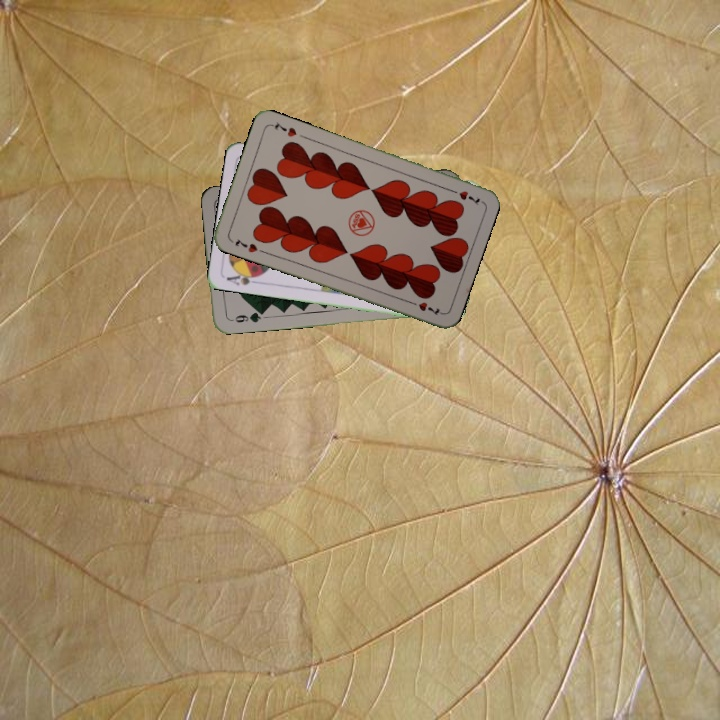G9: (226, 307, 266, 325)
H7: (445, 185, 482, 208), (231, 235, 260, 255)
SA: (222, 267, 263, 288)
